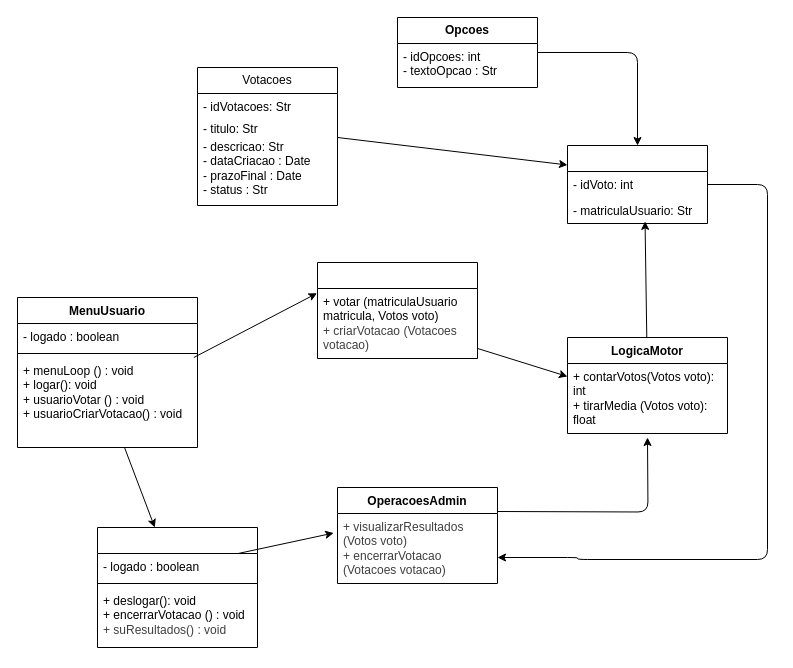
Image size: 793x668. Some labels were removed from this diagram. The box of each missing label's shape, as (x1, y1, x2, y2) in pixels:
MenuSuperUsuario: (96, 526, 258, 648)
Operacoes: (316, 262, 478, 358)
Votos: (566, 144, 708, 224)
